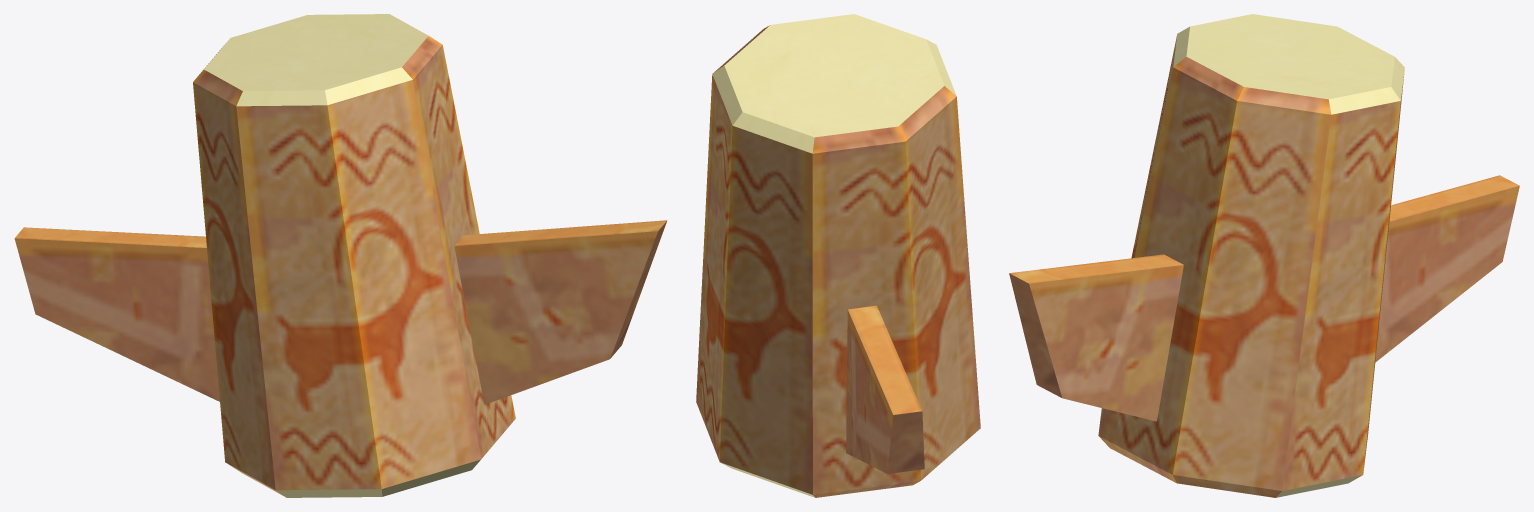
The model's file is Desert_Item_4.fbx.
3 renders of one model, left to right at view 1: azimuth 30°, elevation 25°; view 2: azimuth 150°, elevation 25°; view 3: azimuth 270°, elevation 25°, orthographic.
Visible parts, largest first — view 1: Desert_Item_4; view 2: Desert_Item_4; view 3: Desert_Item_4.
Part boxes in pixels (bbox=[...]): Desert_Item_4: bbox=[14, 14, 667, 497]; Desert_Item_4: bbox=[696, 14, 980, 497]; Desert_Item_4: bbox=[1009, 14, 1519, 497].
Bounding box in the file's own units: 3.15 × 3.05 × 3.42.
1 material, 1 textured.
